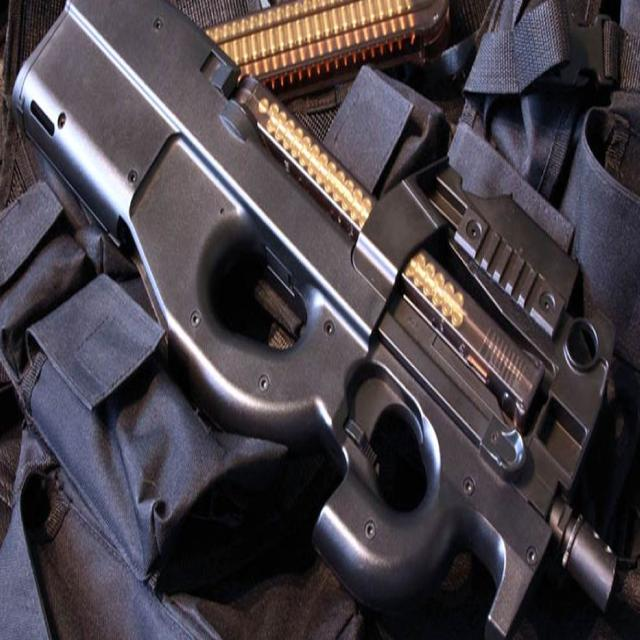SMG: (12, 0, 608, 640)
